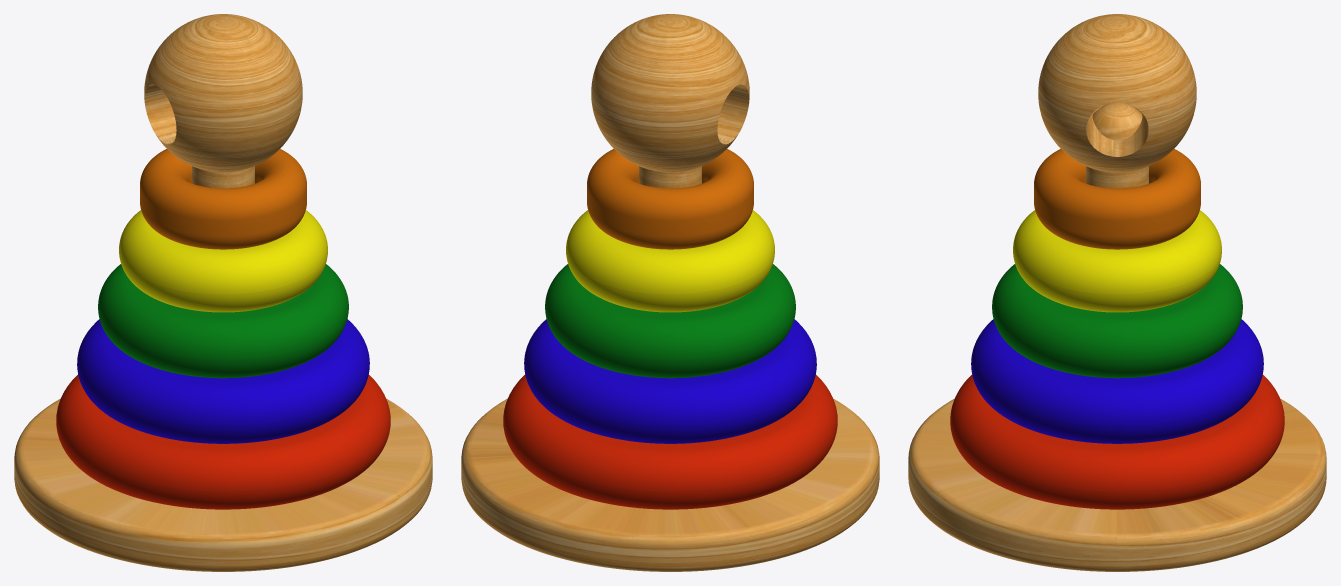
File: Color_&_size_Toy.fbx
The picture shows the model from 3 angles, left to right: view 1: azimuth 30°, elevation 25°; view 2: azimuth 150°, elevation 25°; view 3: azimuth 270°, elevation 25°; orthographic projection.
Parts seen in each view (by area): view 1: Base, Part1, Part2, head, Part3, Part4, Part5, Suport; view 2: Base, Part1, Part2, head, Part3, Part4, Part5, Suport; view 3: Base, Part1, Part2, head, Part3, Part4, Part5, Suport.
Part boxes in pixels (x1,y1,x2,y2): Base: (14, 398, 432, 571); Part1: (56, 374, 390, 509); Part2: (77, 319, 369, 443); head: (144, 14, 302, 172); Part3: (98, 264, 348, 378); Part4: (119, 210, 327, 312); Part5: (140, 148, 306, 249); Suport: (192, 166, 254, 188); Base: (461, 398, 879, 571); Part1: (503, 374, 837, 509); Part2: (524, 319, 816, 443); head: (591, 14, 749, 172); Part3: (545, 264, 795, 378); Part4: (566, 210, 774, 312); Part5: (587, 148, 753, 249); Suport: (639, 166, 701, 188); Base: (908, 399, 1326, 571); Part1: (950, 374, 1284, 509); Part2: (971, 319, 1263, 443); head: (1038, 14, 1196, 172); Part3: (992, 264, 1242, 378); Part4: (1013, 210, 1221, 312); Part5: (1034, 148, 1200, 249); Suport: (1086, 166, 1148, 188).
Size of the model in its own units: 200 by 246 by 200.
6 materials, 1 textured.
